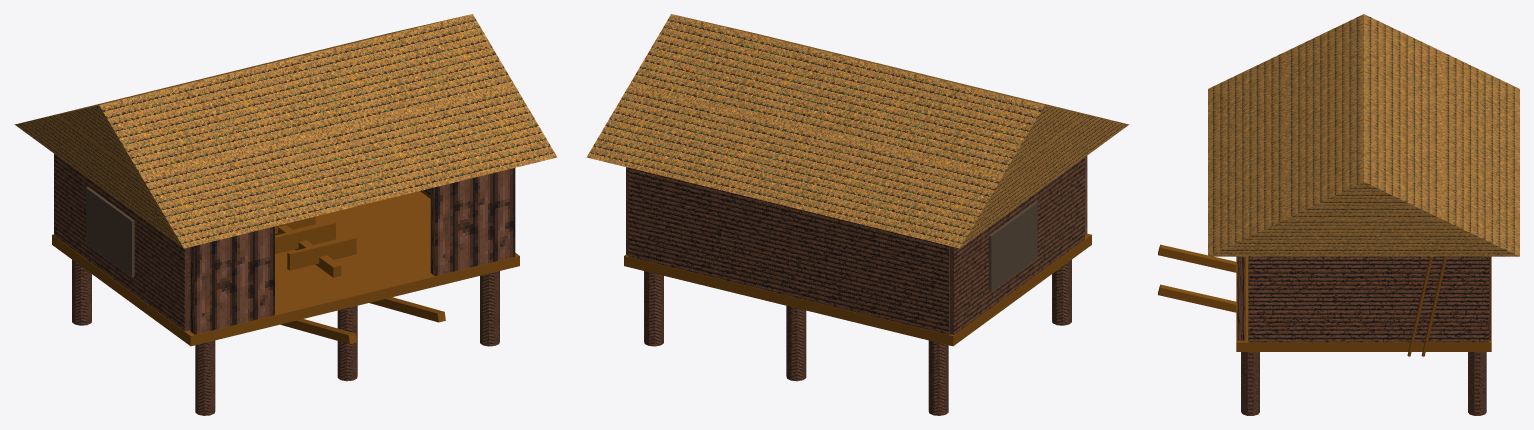
File: casa_barcas.glb
3 views of the same model, side by side, from view 1: azimuth 30°, elevation 25°; view 2: azimuth 150°, elevation 25°; view 3: azimuth 270°, elevation 25° (orthographic). The views are drawn at different scales.
Parts seen in each view (by area): view 1: CasaBarcas_Tejado, Cube, Cube.002, Cube.005, Cube.004, Cube.014, Cylinder, Cylinder.004, Cylinder.002, Cube.010, Cylinder.001, Cube.011 (+3 smaller); view 2: CasaBarcas_Tejado, Cube.001, Cube.002, Cube, Cube.014, Cylinder.001, Cylinder.003, Cylinder.005, Cylinder; view 3: CasaBarcas_Tejado, Cube.003, Cube, Cylinder.004, Cylinder.005, Cube.008, Cube.007, Cube.005, Cylinder.006, Cylinder.007.
Part boxes in pixels (x1=…): CasaBarcas_Tejado: x1=14, y1=14, x2=557, y2=248; Cube: x1=52, y1=191, x2=519, y2=346; Cube.002: x1=54, y1=154, x2=190, y2=331; Cube.005: x1=430, y1=168, x2=515, y2=276; Cube.004: x1=190, y1=226, x2=274, y2=334; Cube.014: x1=86, y1=187, x2=134, y2=276; Cylinder: x1=195, y1=340, x2=215, y2=415; Cylinder.004: x1=480, y1=271, x2=499, y2=346; Cylinder.002: x1=337, y1=305, x2=357, y2=381; Cube.010: x1=287, y1=236, x2=356, y2=270; Cylinder.001: x1=72, y1=260, x2=91, y2=325; Cube.011: x1=275, y1=221, x2=335, y2=253; CasaBarcas_Tejado: x1=586, y1=14, x2=1129, y2=248; Cube.001: x1=628, y1=168, x2=949, y2=334; Cube.002: x1=950, y1=157, x2=1084, y2=334; Cube: x1=624, y1=233, x2=1091, y2=346; Cube.014: x1=988, y1=202, x2=1037, y2=292; Cylinder.001: x1=928, y1=340, x2=948, y2=415; Cylinder.003: x1=786, y1=305, x2=806, y2=381; Cylinder.005: x1=644, y1=271, x2=663, y2=346; Cylinder: x1=1052, y1=260, x2=1071, y2=325; CasaBarcas_Tejado: x1=1208, y1=14, x2=1519, y2=256; Cube.003: x1=1248, y1=256, x2=1488, y2=342; Cube: x1=1236, y1=256, x2=1491, y2=351; Cylinder.004: x1=1241, y1=352, x2=1259, y2=415; Cylinder.005: x1=1468, y1=352, x2=1486, y2=415; Cube.008: x1=1158, y1=284, x2=1236, y2=312; Cube.007: x1=1158, y1=244, x2=1236, y2=272; Cube.005: x1=1237, y1=256, x2=1245, y2=340; Cylinder.006: x1=1407, y1=256, x2=1432, y2=356; Cylinder.007: x1=1421, y1=256, x2=1446, y2=356.
Size of the model in its own units: 8.4 by 5.85 by 7.66.
4 materials, 2 textured.
